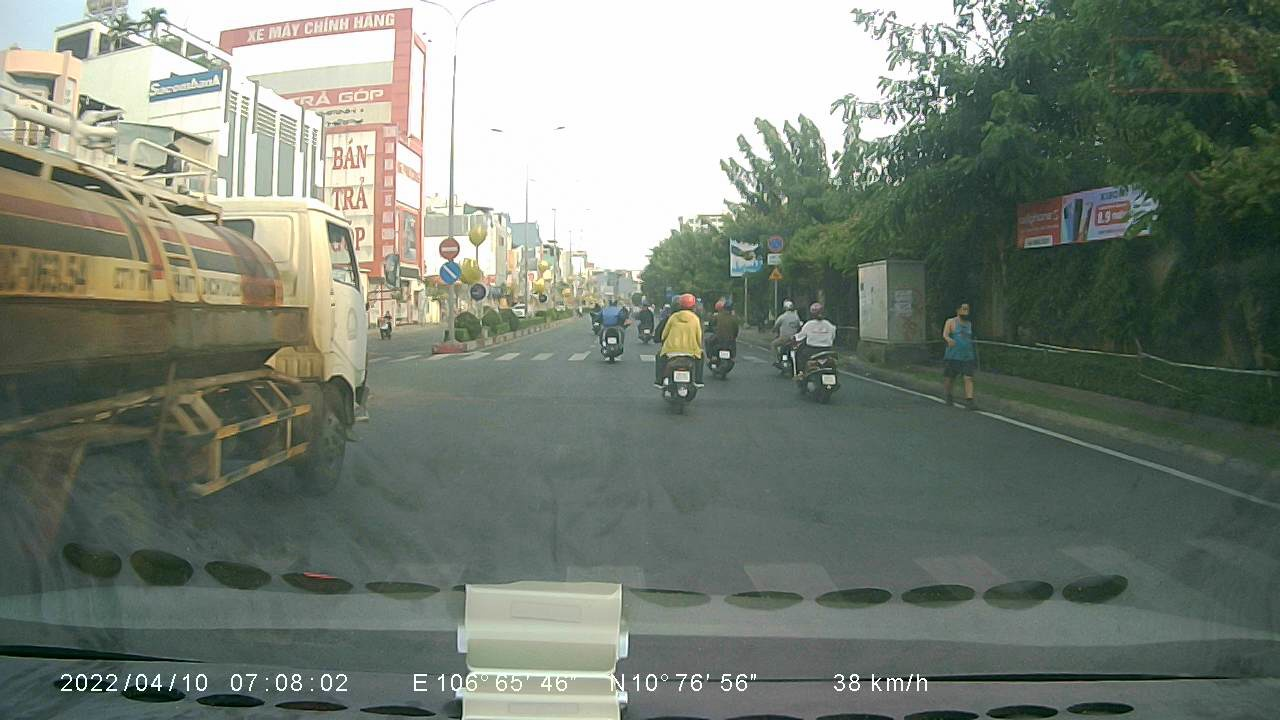Cam di nguoc chieu: (434, 235, 463, 259)
Huong di phai re phai: (436, 262, 465, 284)
